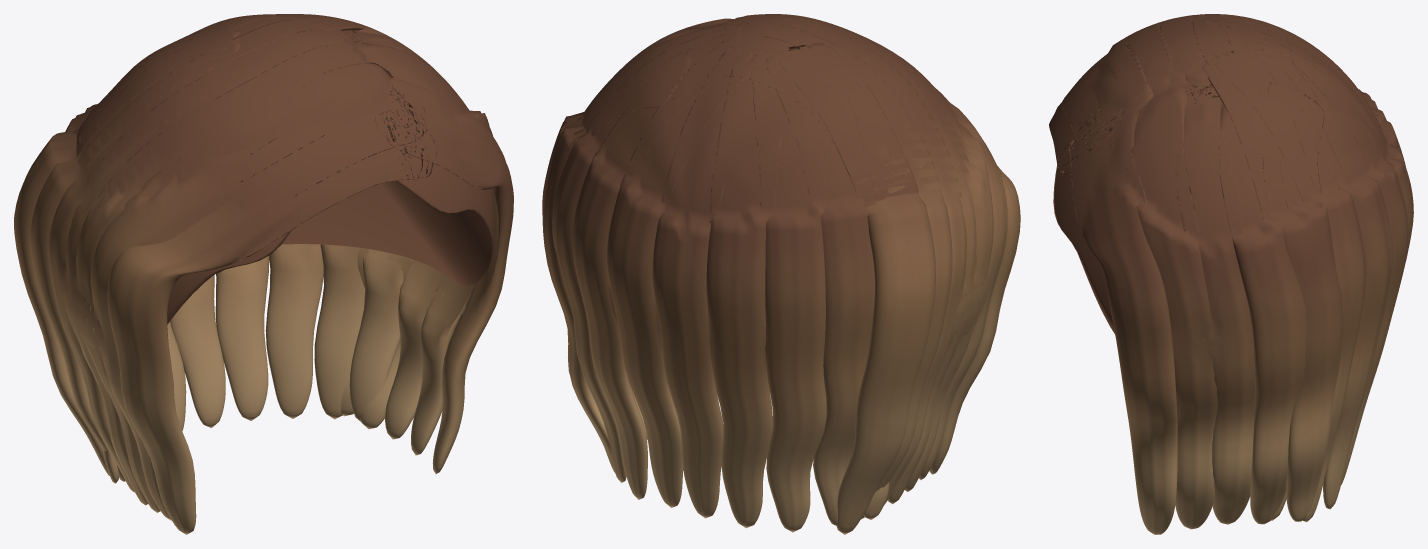
Rendered from Ombre-69c2cb78c415253-hair.glb.
3 renders of one model, left to right at view 1: azimuth 30°, elevation 25°; view 2: azimuth 150°, elevation 25°; view 3: azimuth 270°, elevation 25°, orthographic. The views are drawn at different scales.
Parts seen in each view (by area): view 1: 226 hair / Hair / sculpted 0.004, 226 hair / Hair / sculpted 1.008, 226 hair / Hair / sculpted 2.004, 226 hair / Hair / sculpted 1.007; view 2: 226 hair / Hair / sculpted 0.004, 226 hair / Hair / sculpted 2.004, 226 hair / Hair / sculpted 1.008; view 3: 226 hair / Hair / sculpted 1.008, 226 hair / Hair / sculpted 2.004, 226 hair / Hair / sculpted 0.004, 226 hair / Hair / sculpted 1.007.
Part boxes in pixels (x1,y1,x2,y2): 226 hair / Hair / sculpted 0.004: [14, 14, 456, 534]; 226 hair / Hair / sculpted 1.008: [48, 14, 513, 520]; 226 hair / Hair / sculpted 2.004: [30, 14, 496, 512]; 226 hair / Hair / sculpted 1.007: [91, 164, 494, 361]; 226 hair / Hair / sculpted 0.004: [572, 14, 1020, 534]; 226 hair / Hair / sculpted 2.004: [542, 14, 993, 525]; 226 hair / Hair / sculpted 1.008: [542, 15, 1007, 532]; 226 hair / Hair / sculpted 1.008: [1062, 14, 1408, 534]; 226 hair / Hair / sculpted 2.004: [1085, 14, 1413, 529]; 226 hair / Hair / sculpted 0.004: [1049, 14, 1405, 524]; 226 hair / Hair / sculpted 1.007: [1053, 165, 1114, 333].
Size of the model in its own units: 1.02 by 1.07 by 0.8091.
Materials: 4 (4 with a texture image).
